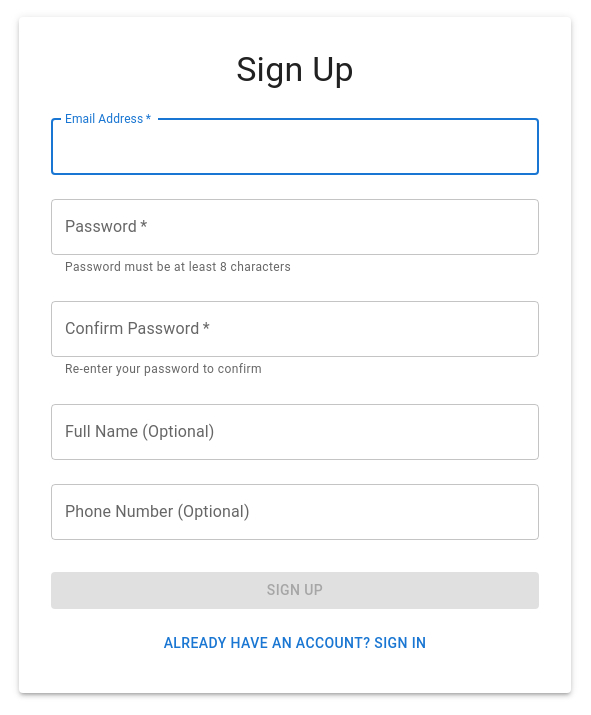
it: RegisterPage - Password Confirmation › should show error when passwords do not match
The width and height of the screenshot is (591, 715).
Type "test@example.com" into the field labelled "Email Address *".
click(295, 146); type("test@example.com")  # box x1=51 y1=118 x2=539 y2=174
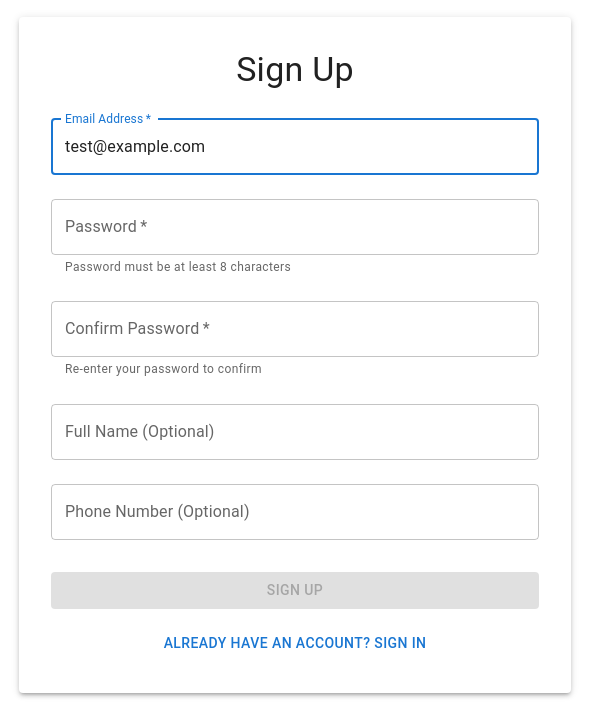
Type "password123" into the password field labelled "Password *".
click(295, 226); type("password123")  # box x1=51 y1=198 x2=539 y2=254
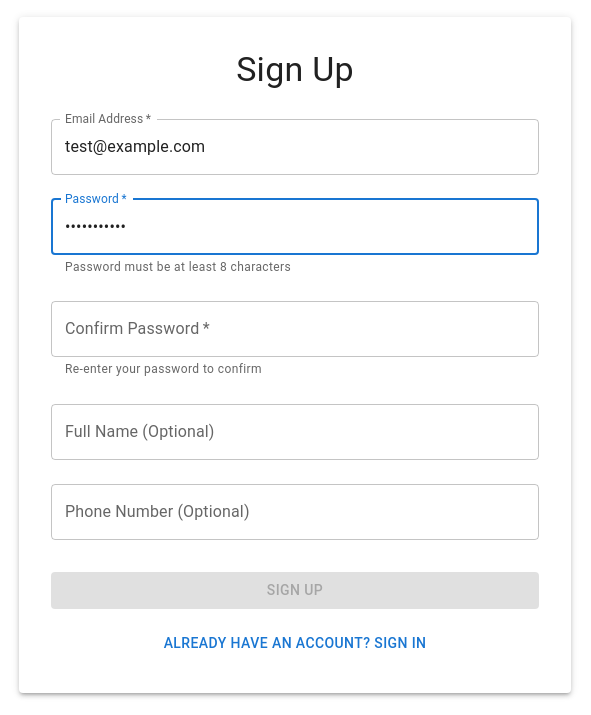
Type "differentpassword" into the password field labelled "Confirm Password *".
click(295, 329); type("differentpassword")  # box x1=51 y1=301 x2=539 y2=357
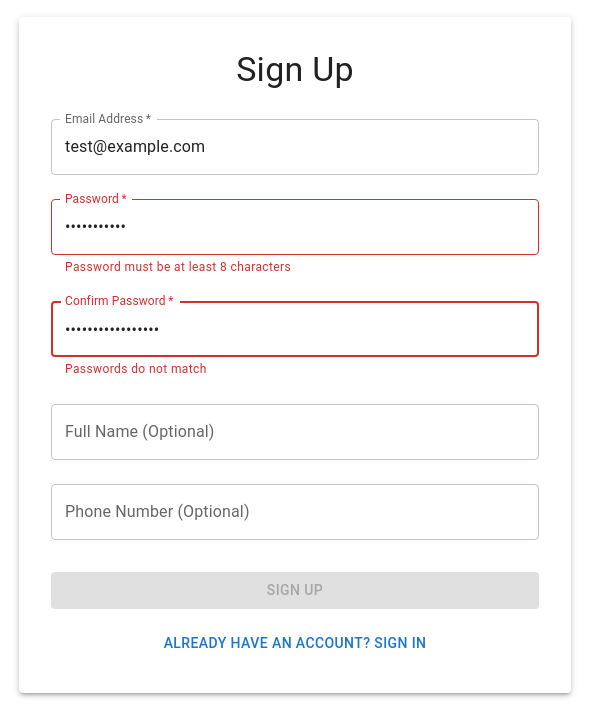
Expected: the button "Sign Up" is disabled, x1=51 y1=572 x2=539 y2=609
Result: the text "Passwords do not match" is shown at x1=65 y1=362 x2=207 y2=376
